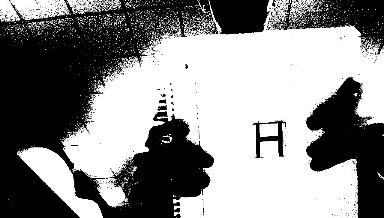H: (249, 121, 287, 156)
